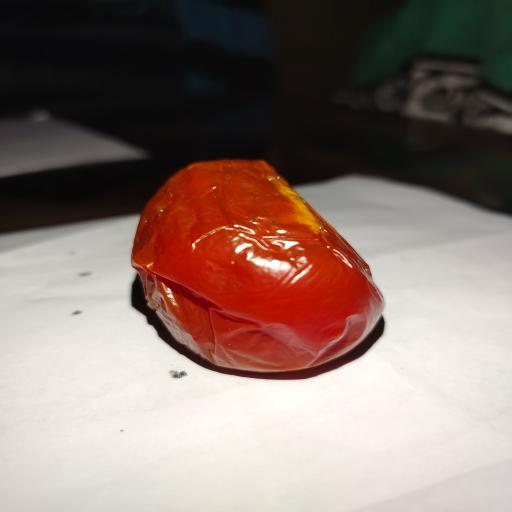spoiled: (132, 160, 383, 372)
